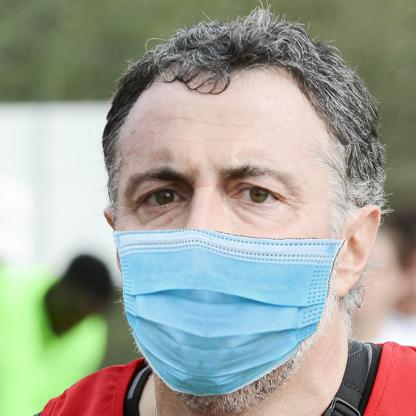mask: (108, 224, 344, 396)
